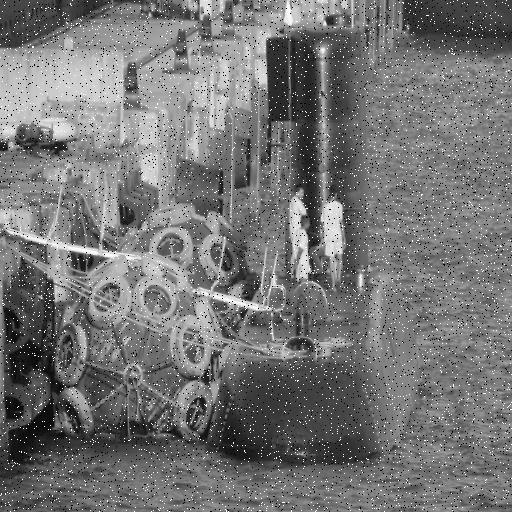submarine: (232, 4, 431, 463)
